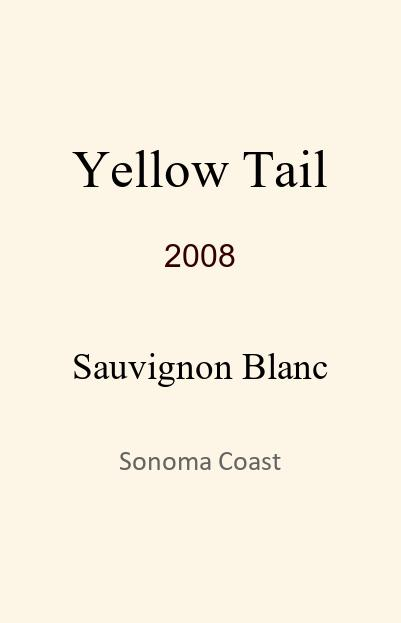brand: (72, 139, 328, 176)
region: (119, 449, 281, 467)
variety: (72, 346, 328, 380)
vintage: (164, 238, 236, 261)
